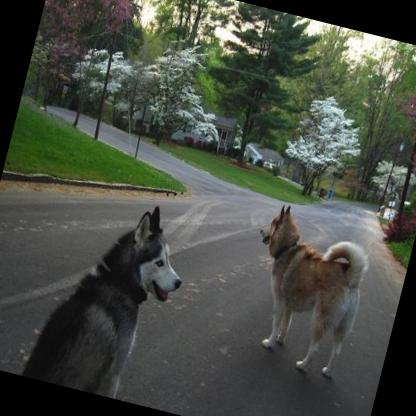Siberian_husky: (21, 182, 200, 406), (228, 200, 378, 380)
